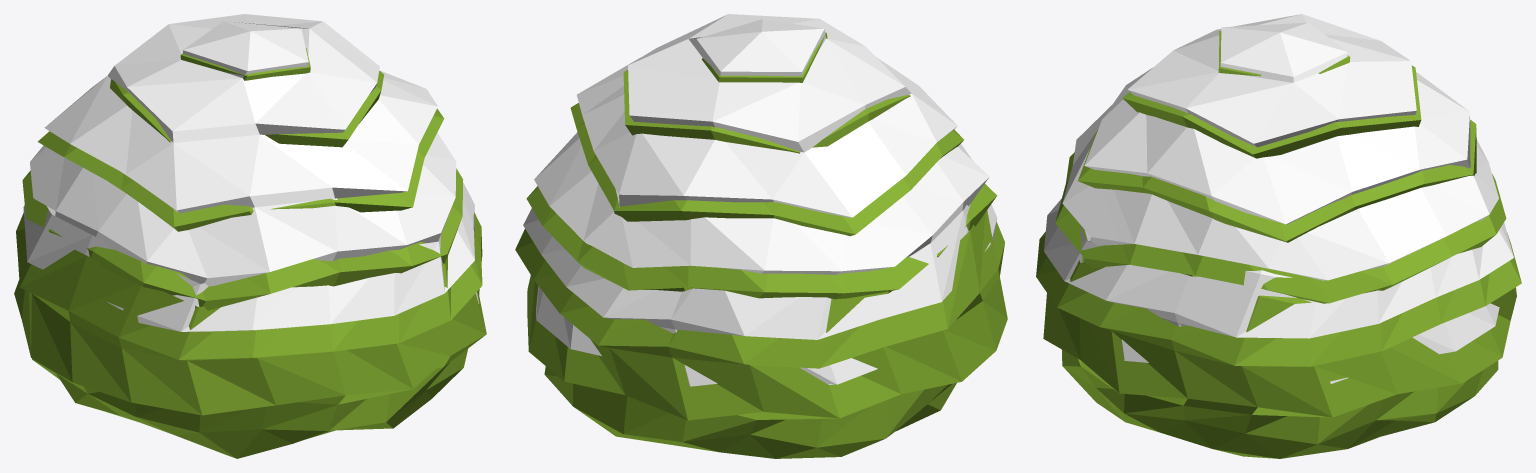
Rendered from SnowbushA.fbx.
3 renders of one model, left to right at view 1: azimuth 30°, elevation 25°; view 2: azimuth 150°, elevation 25°; view 3: azimuth 270°, elevation 25°, orthographic.
Visible parts, largest first — view 1: leaves.004, leaves.003; view 2: leaves.004, leaves.003; view 3: leaves.004, leaves.003.
Boxes of the visible parts, bbox=[...] form: leaves.004: bbox=[23, 14, 479, 331]; leaves.003: bbox=[14, 48, 486, 458]; leaves.004: bbox=[523, 14, 997, 386]; leaves.003: bbox=[515, 32, 1007, 458]; leaves.004: bbox=[1044, 14, 1513, 383]; leaves.003: bbox=[1036, 31, 1521, 458].
Bounding box in the file's own units: 203 × 170 × 203.
